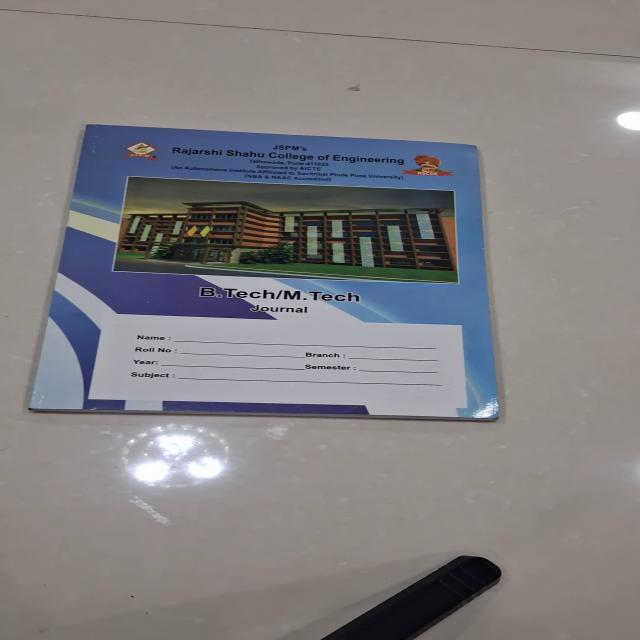paper: (27, 123, 500, 420)
